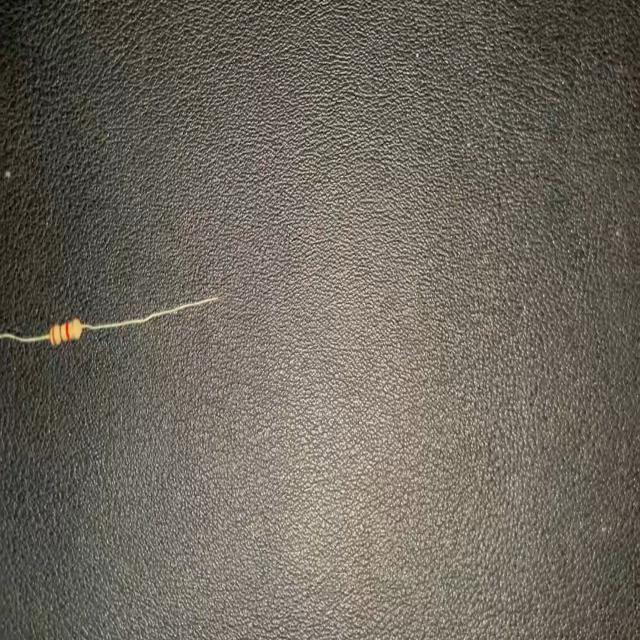resistor: (0, 296, 220, 348)
